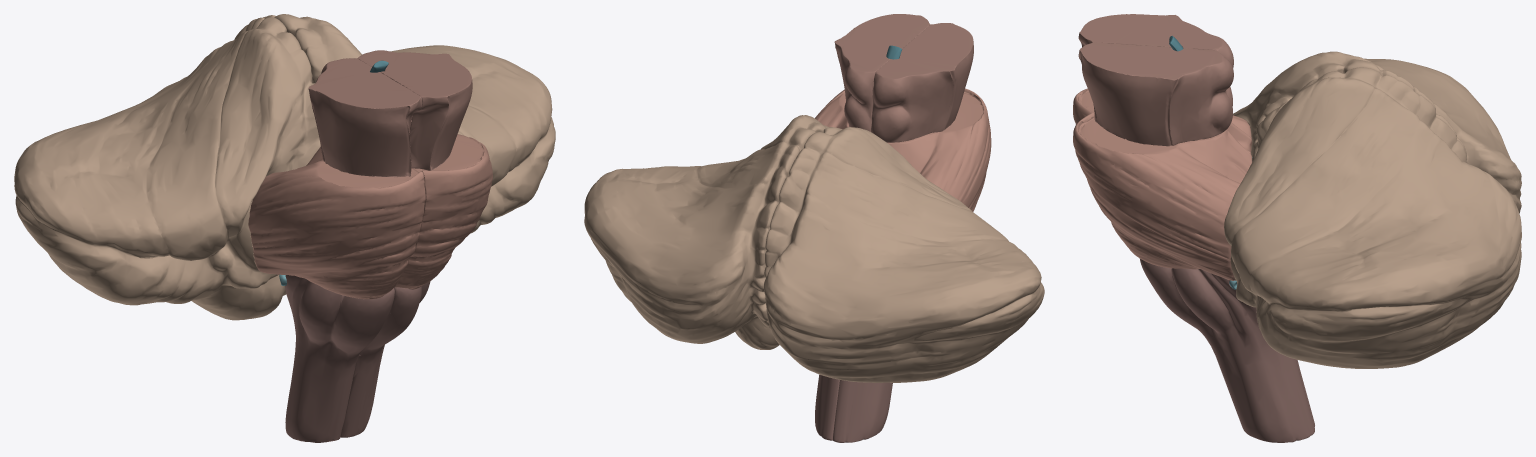
File: cerebellum.glb
The picture shows the model from 3 angles, left to right: view 1: azimuth 30°, elevation 25°; view 2: azimuth 150°, elevation 25°; view 3: azimuth 270°, elevation 25°; orthographic projection. The views are drawn at different scales.
Parts seen in each view (by area): view 1: cerebellum, pons, midbrain, medulla; view 2: cerebellum, midbrain, pons, medulla; view 3: cerebellum, pons, midbrain, medulla.
Part boxes in pixels (x1,y1,x2,y2): cerebellum: (14, 14, 555, 320); pons: (248, 134, 492, 299); midbrain: (308, 50, 472, 177); medulla: (284, 275, 430, 442); cerebellum: (584, 115, 1044, 382); midbrain: (834, 14, 973, 142); pons: (815, 88, 991, 211); medulla: (815, 374, 892, 442); cerebellum: (1224, 51, 1521, 368); pons: (1073, 88, 1252, 280); midbrain: (1078, 14, 1233, 146); medulla: (1139, 258, 1314, 442).
Size of the model in its own units: 2.13 by 1.64 by 1.7.
